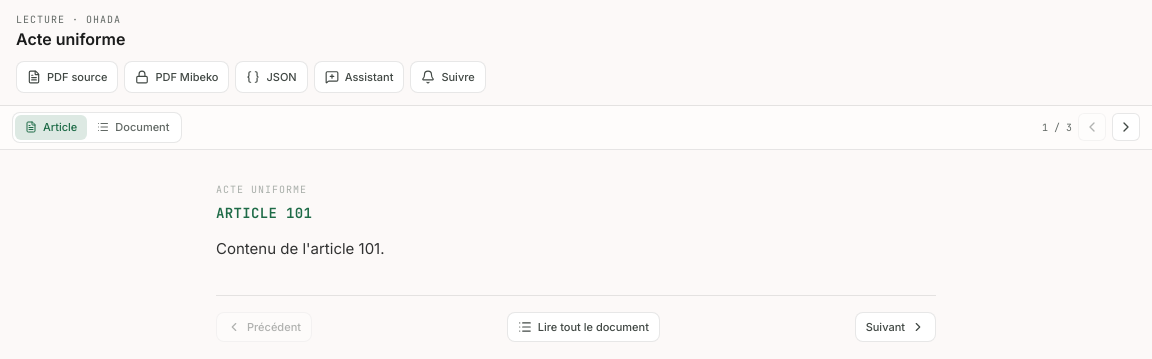
Test: DocumentReaderView — adresse alignée sur l'article lu (front#45) › notifie le parent avec le nouvel article au clic sur « Suivant »
The width and height of the screenshot is (1152, 359).
Expected: the heading "Article 101" is shown, [216,204,312,222]
Click the button "Suivant" at {"x": 895, "y": 327}, box [855,312,936,342]
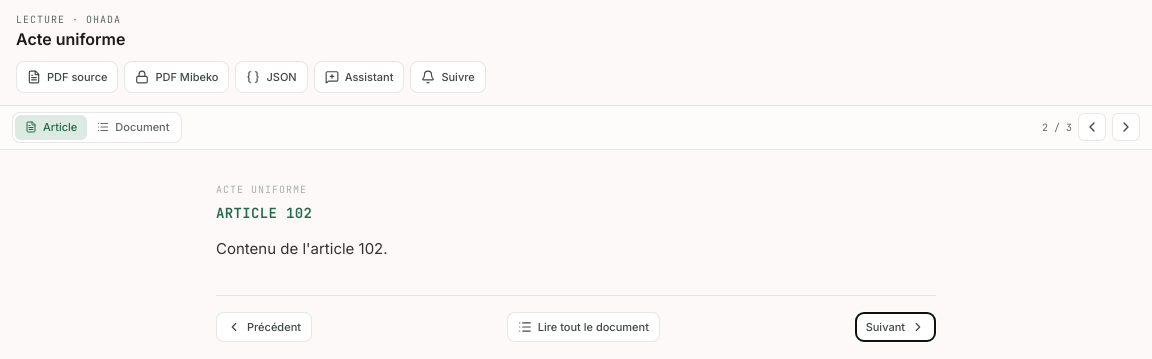
Expected: the heading "Article 102" is shown, [216,204,312,222]
